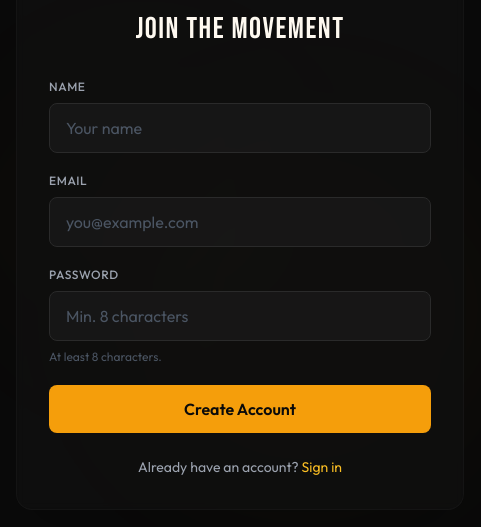
it: RegisterPage › submits valid input and shows the loading spinner state
The image size is (481, 527).
Type "Ada Lovelace" into the field labelled "Name" at (240,128), box x1=49 y1=103 x2=431 y2=153
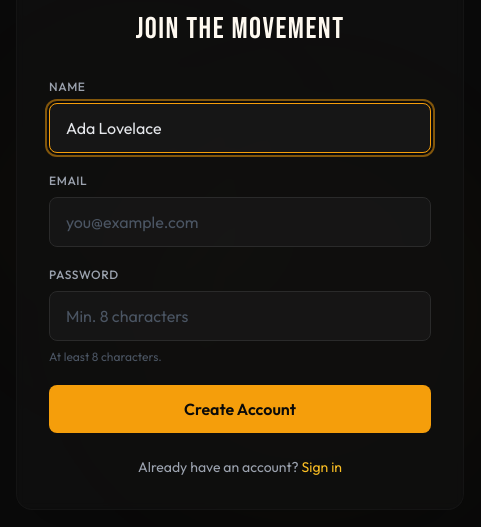
Type "ada@example.com" into the field labelled "Email" at (240,222), box x1=49 y1=197 x2=431 y2=247
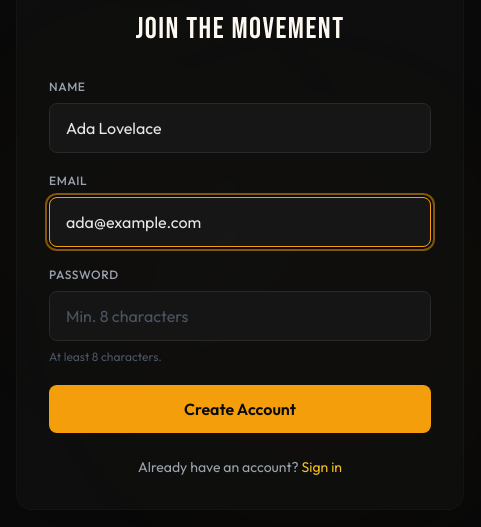
Type "a-strong-password" into the password field labelled "Password" at (240,316), box x1=49 y1=291 x2=431 y2=341
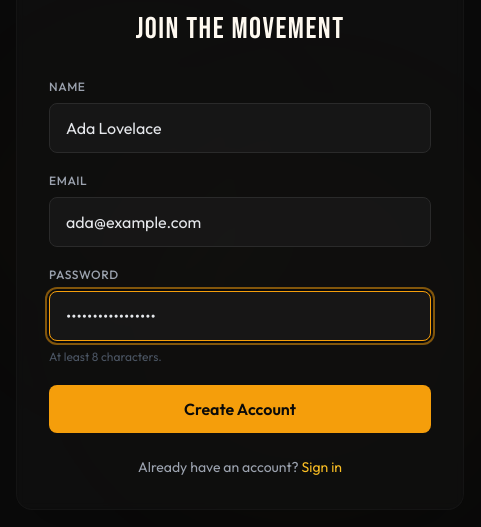
Click the button "Create Account" at (240,409), box x1=49 y1=385 x2=431 y2=433
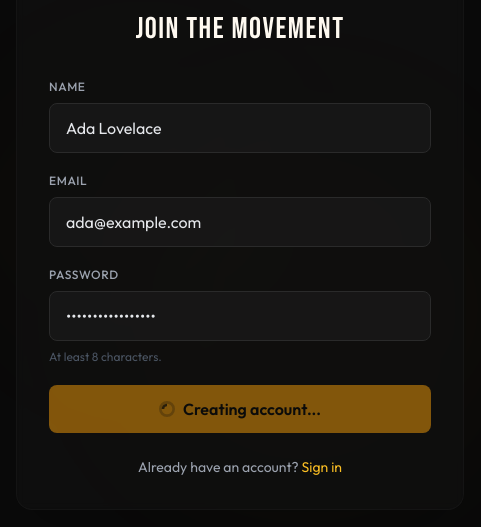
expect the button "Creating account..." is disabled: met, box x1=49 y1=385 x2=431 y2=433
